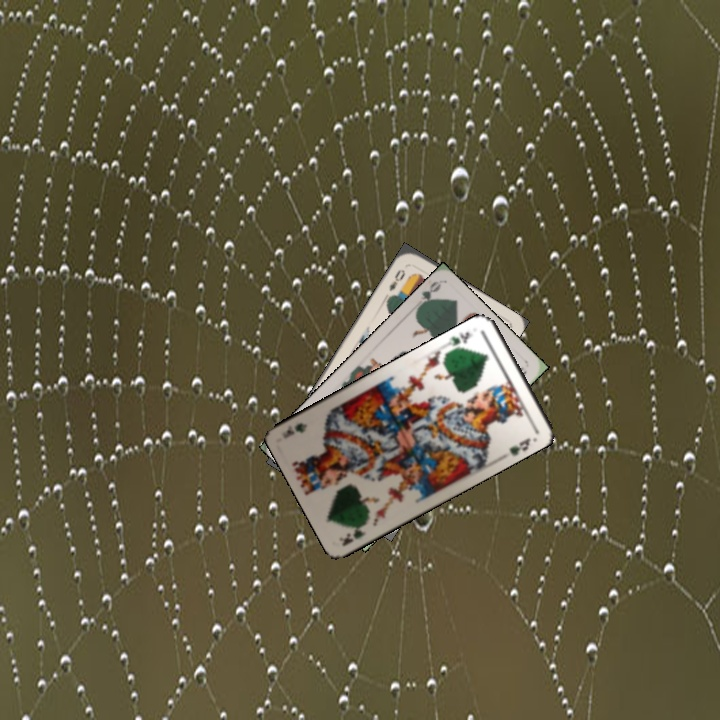EO: (385, 265, 408, 294)
GK: (338, 516, 372, 548), (444, 328, 472, 349)
GO: (412, 277, 443, 314)
